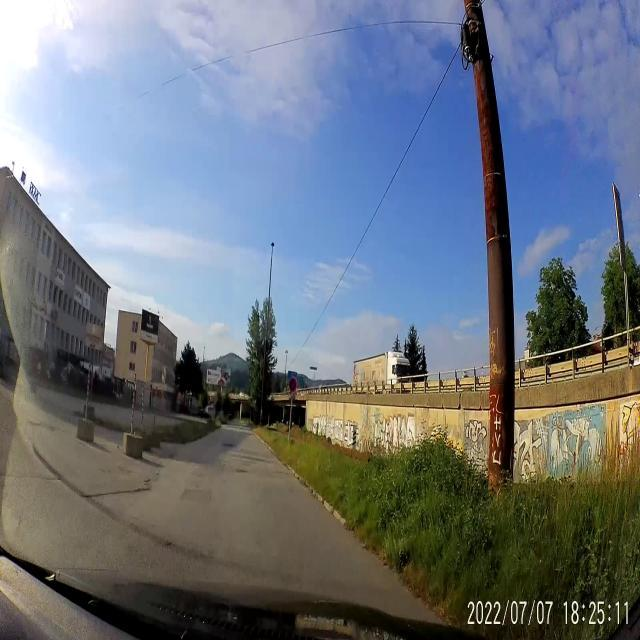Pothole: (234, 464, 252, 478), (218, 441, 240, 452)
